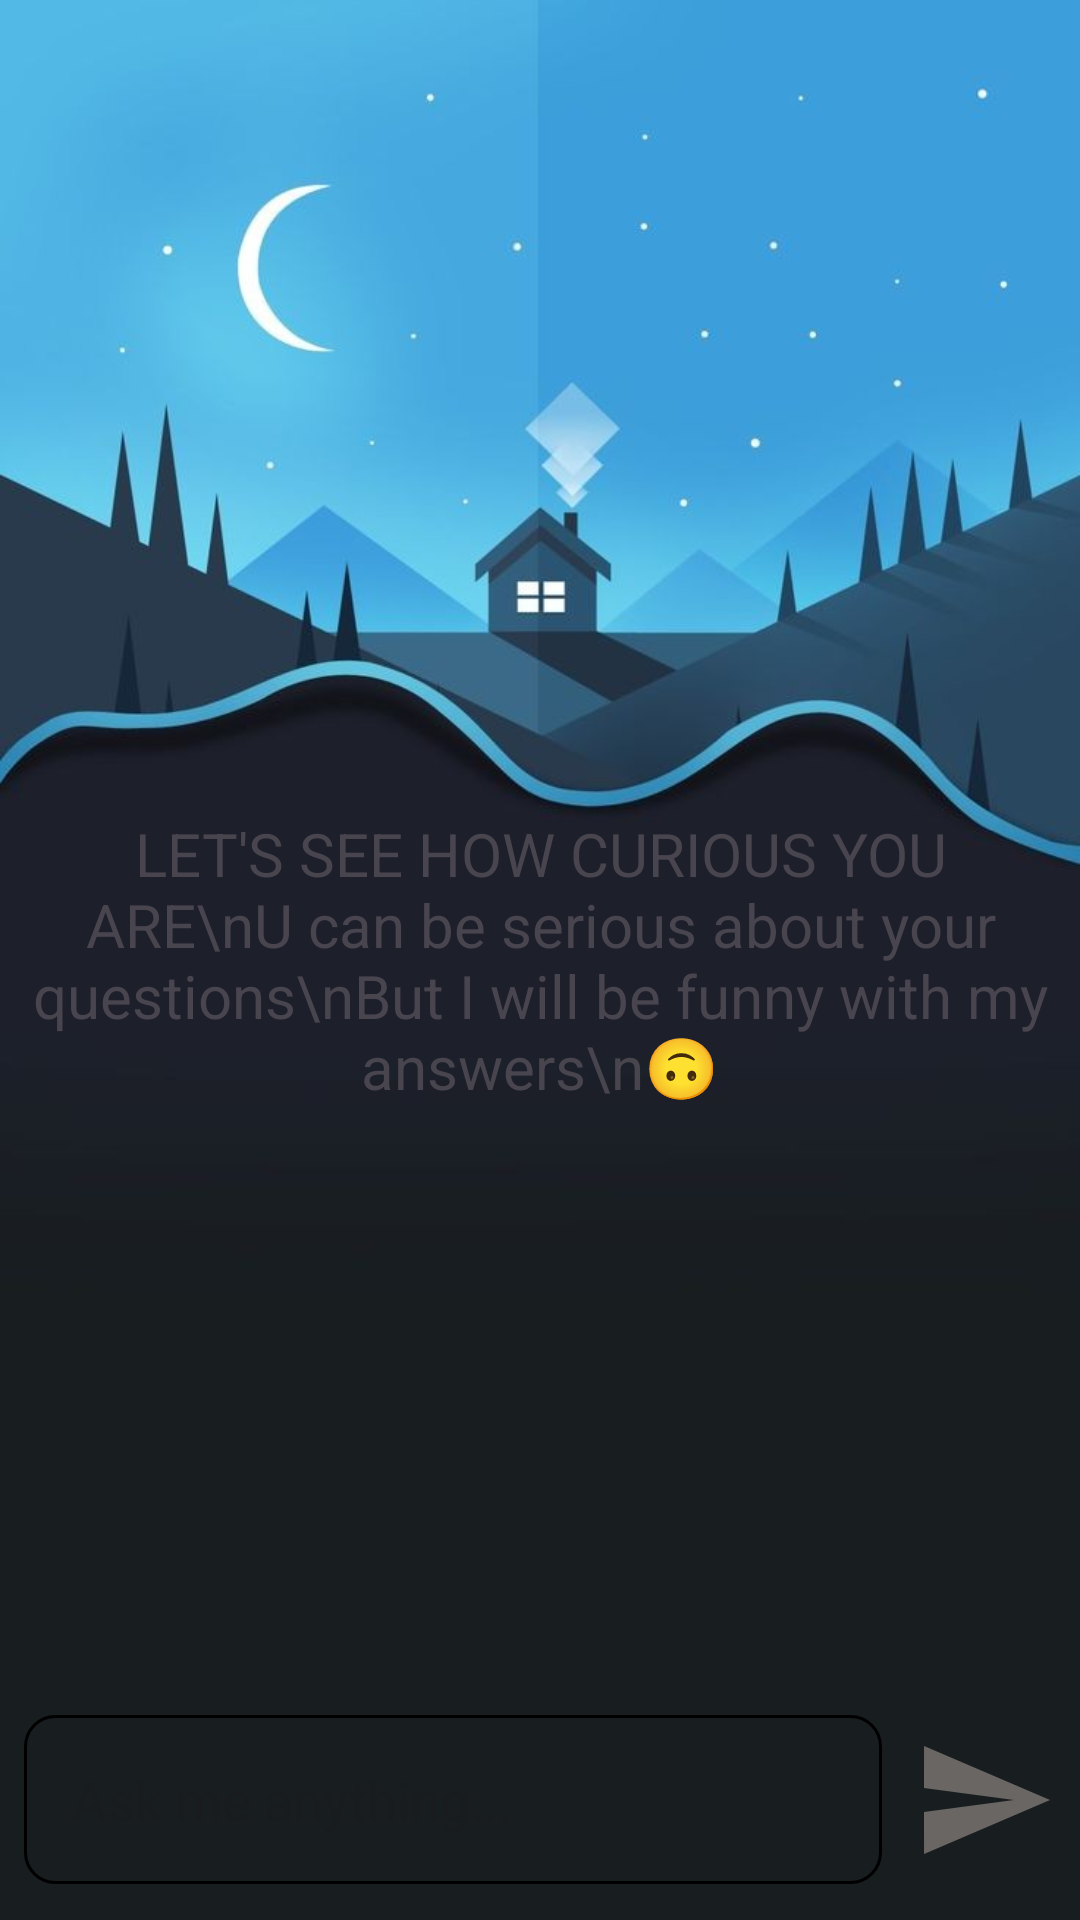

Icon bounding boxes for this 1080×1920 phone screenshot, format (x1, y1, x2, y2):
send: (924, 1746, 1049, 1854)
